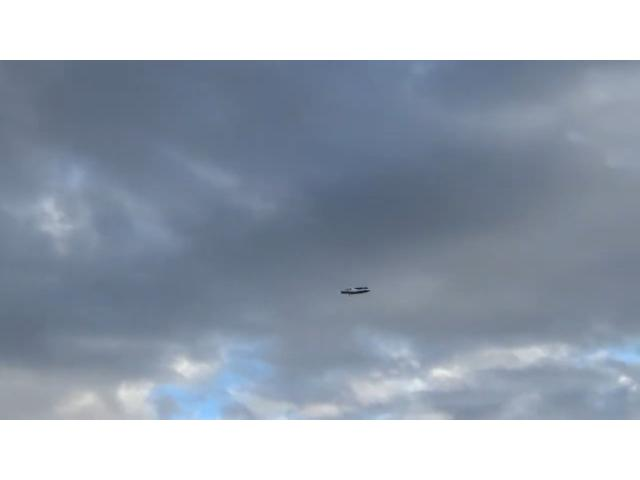Anti-Drone: (340, 284, 372, 296)
